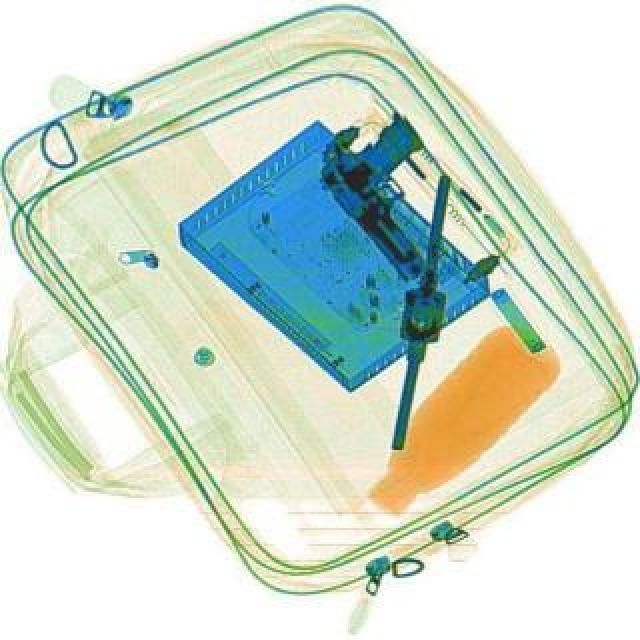gun: (308, 108, 492, 284)
